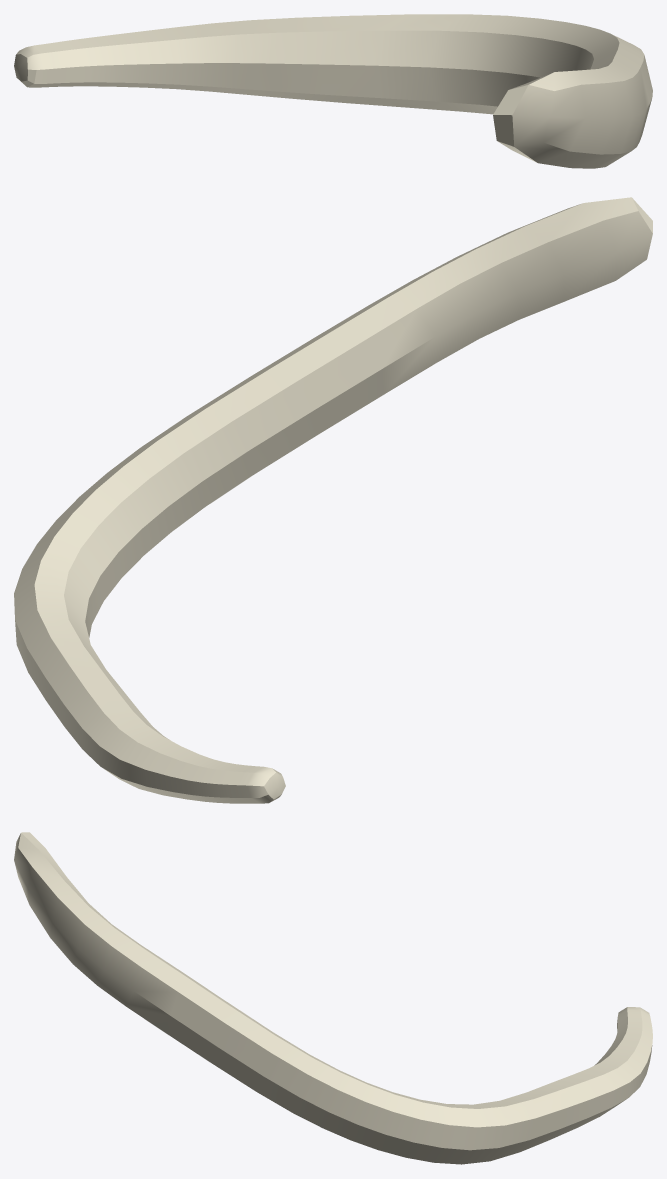
The model's file is Os_COTE5.fbx.
3 renders of one model, top to bottom at view 1: azimuth 30°, elevation 25°; view 2: azimuth 150°, elevation 25°; view 3: azimuth 270°, elevation 25°, orthographic. The views are drawn at different scales.
Visible parts, largest first — view 1: Os Côté.5; view 2: Os Côté.5; view 3: Os Côté.5.
Boxes of the visible parts, x1,y1,x2,y2 form: Os Côté.5: (14,14,652,168); Os Côté.5: (14,197,652,803); Os Côté.5: (14,832,652,1164).
Bounding box in the file's own units: 857 × 671 × 1652.
